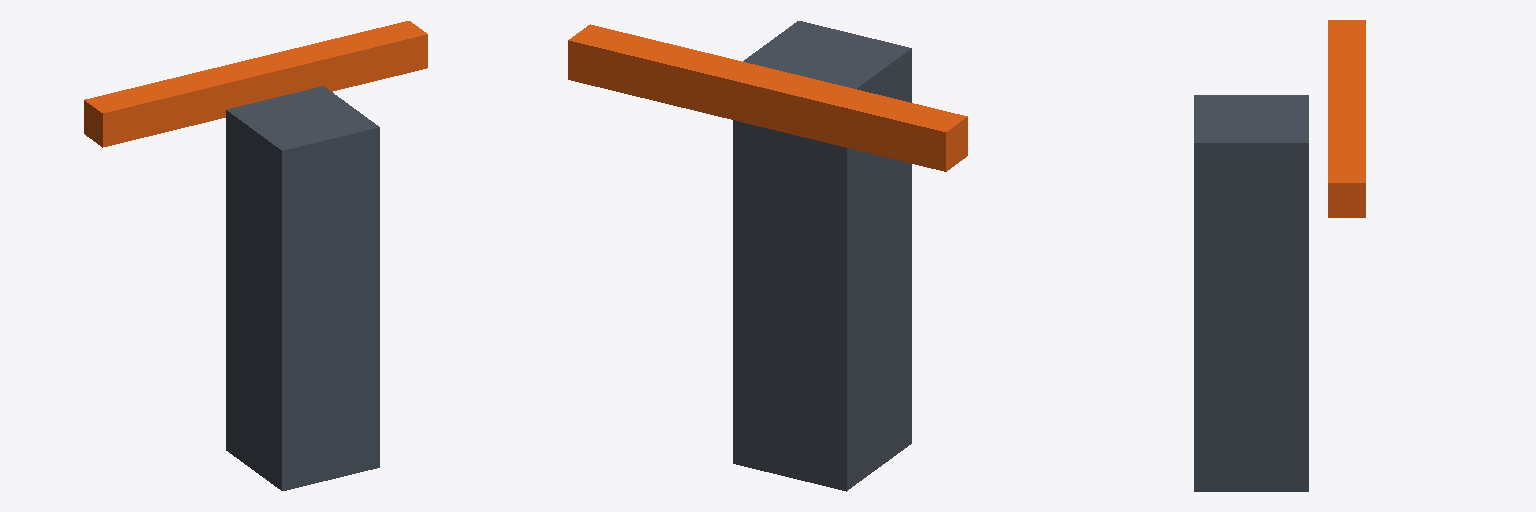
URDF robot description (motor_rig):
<?xml version="1.0"?>
<!-- A flywheel on a geared DC motor, for the motor modes. -->
<robot name="motor_rig"><link name="world"/>
  <link name="base"><visual><origin xyz="0 0 0.5"/><geometry><box size="0.3 0.3 1"/></geometry>
    <material name="b"><color rgba="0.35 0.38 0.42 1"/></material></visual></link>
  <joint name="base_fix" type="fixed"><parent link="world"/><child link="base"/></joint>
  <link name="wheel"><inertial><mass value="4"/><inertia ixx="0.08" iyy="0.08" izz="0.08" ixy="0" ixz="0" iyz="0"/></inertial>
    <visual><geometry><box size="1 0.1 0.1"/></geometry><material name="w"><color rgba="0.95 0.45 0.15 1"/></material></visual></link>
  <joint name="spin" type="continuous"><parent link="base"/><child link="wheel"/>
    <origin xyz="0 0.25 1"/><axis xyz="0 1 0"/><limit effort="0" velocity="0"/></joint>
</robot>

--- What the picture shows (computed from the rendered views, not written in the file) ---
Views: 3 orthographic renders of the robot side by side, from view 1: azimuth 30°, elevation 25°; view 2: azimuth 150°, elevation 25°; view 3: azimuth 270°, elevation 25°.
Robot: motor_rig — 3 links, 2 joints (1 continuous, 1 fixed); root link world; default pose: every joint at zero.
Links seen in each view (by area): view 1: base, wheel; view 2: base, wheel; view 3: base, wheel.
Boxes of the visible links, x1,y1,x2,y2 form: base: (226, 86, 379, 490); wheel: (84, 21, 427, 147); base: (733, 21, 911, 491); wheel: (568, 24, 967, 171); base: (1194, 95, 1308, 491); wheel: (1328, 20, 1365, 217).
Size in the robot's own frame: 1 by 0.45 by 1.05 metres.
Geometry: primitives only (box / cylinder / sphere), no mesh files.
